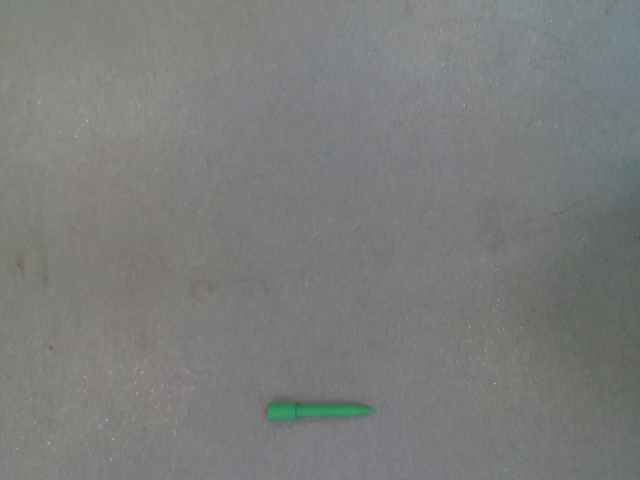Probe: (264, 398, 380, 427)
